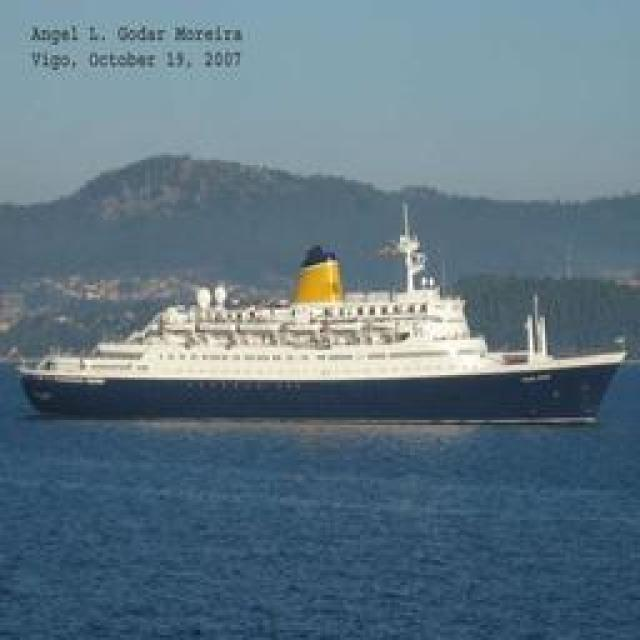CIV_Ship: (9, 209, 624, 419)
